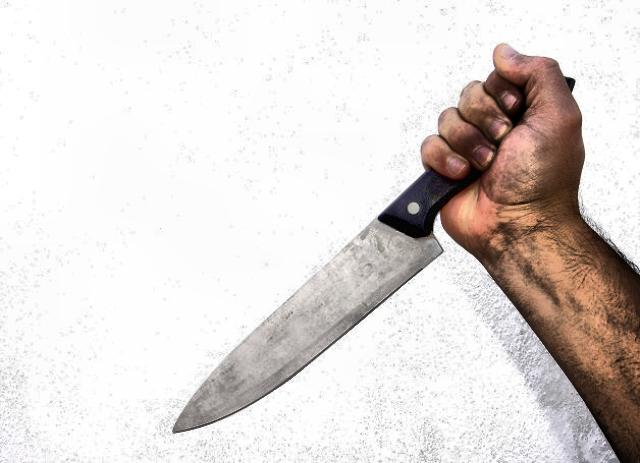knife: (163, 40, 555, 442)
